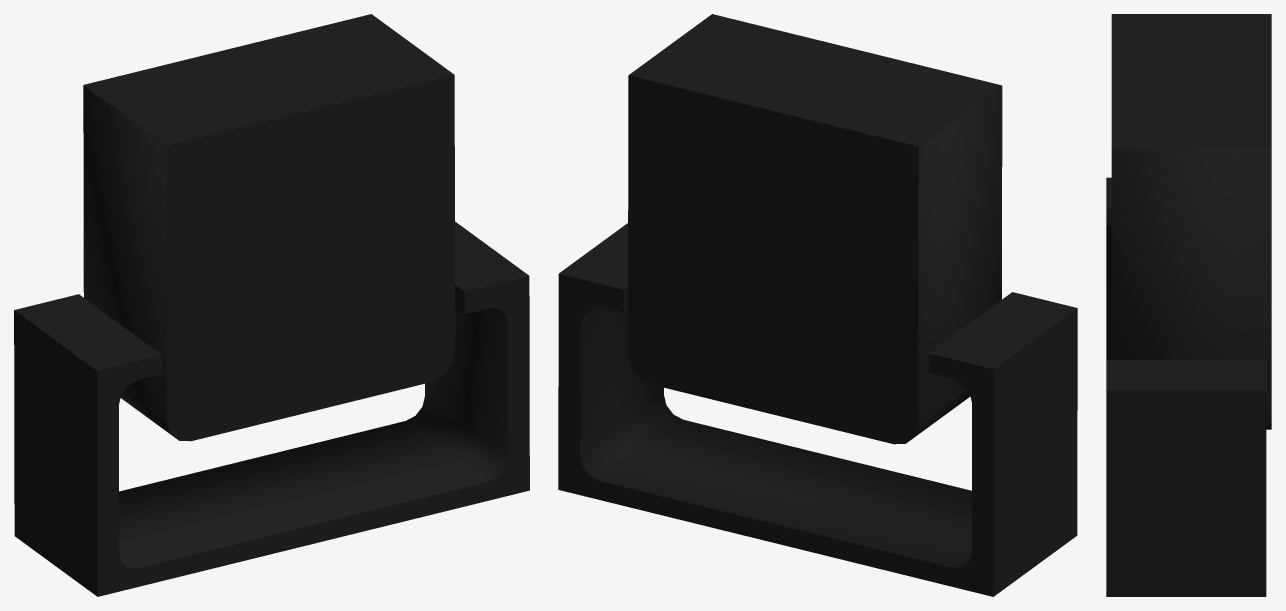
The model's file is suctionBase.dae.
3 views of the same model, side by side, from view 1: azimuth 30°, elevation 25°; view 2: azimuth 150°, elevation 25°; view 3: azimuth 270°, elevation 25° (orthographic). The views are drawn at different scales.
Parts seen in each view (by area): view 1: Cube_002; view 2: Cube_002; view 3: Cube_002.
Boxes of the visible parts, left/top/right/bottom form: Cube_002: left=14, top=14, right=529, bottom=596; Cube_002: left=558, top=14, right=1077, bottom=596; Cube_002: left=1106, top=14, right=1271, bottom=596.
Bounding box in the file's own units: 0.0601 × 0.0207 × 0.0574.
Materials: 1 (1 with a texture image).
